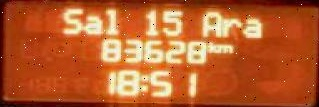1: (186, 68, 201, 99), (142, 8, 157, 35), (106, 68, 116, 95)
2: (164, 38, 184, 63)
3: (122, 35, 141, 61)
5: (149, 69, 170, 96), (162, 6, 181, 34)
6: (142, 38, 162, 62)
8: (116, 68, 137, 95), (99, 37, 120, 60), (185, 39, 204, 63)
X: (60, 6, 79, 34), (202, 9, 221, 36), (104, 6, 119, 34), (222, 15, 241, 36), (242, 15, 261, 36), (84, 14, 100, 34), (216, 41, 232, 54), (139, 72, 145, 93), (207, 39, 216, 53)
